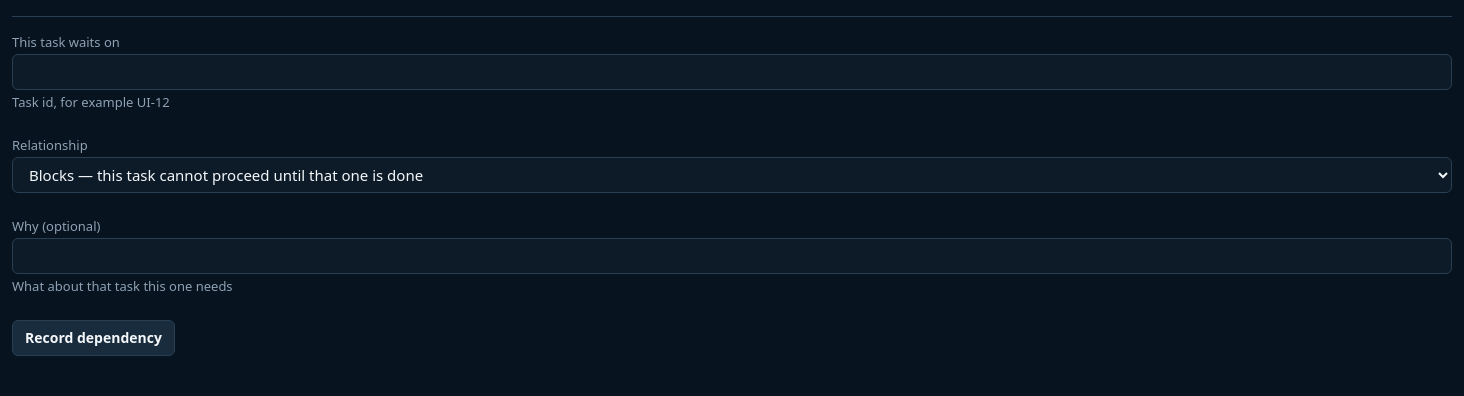
Test: DependencyForm › refuses a self-dependency
This screenshot has width=1464, height=396.
Type "UI-1" into the field labelled "This task waits on" at (732, 72), box [12,54,1452,90]
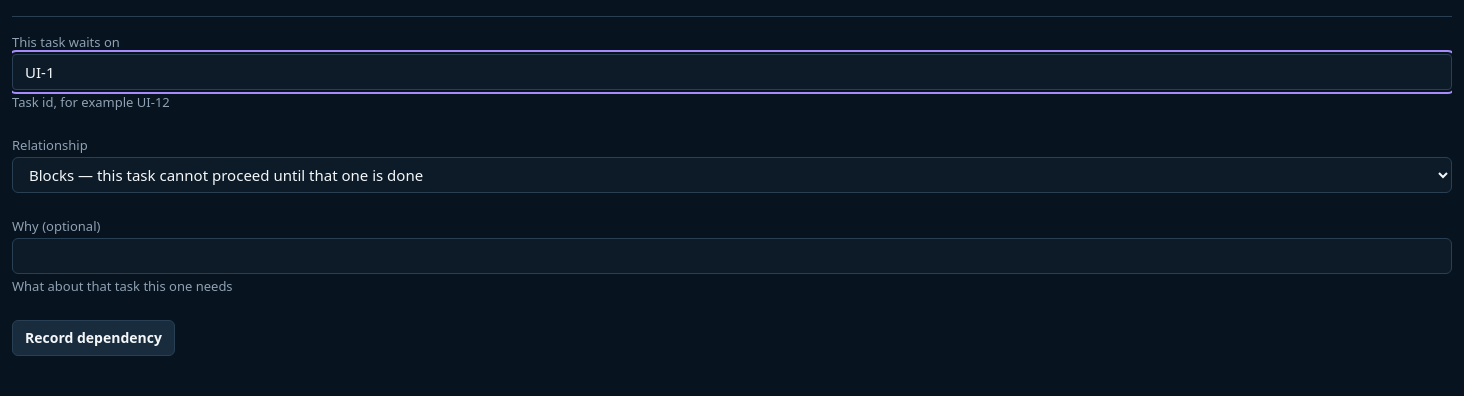
Click the button "Record dependency" at (93, 338), box [12,320,175,356]
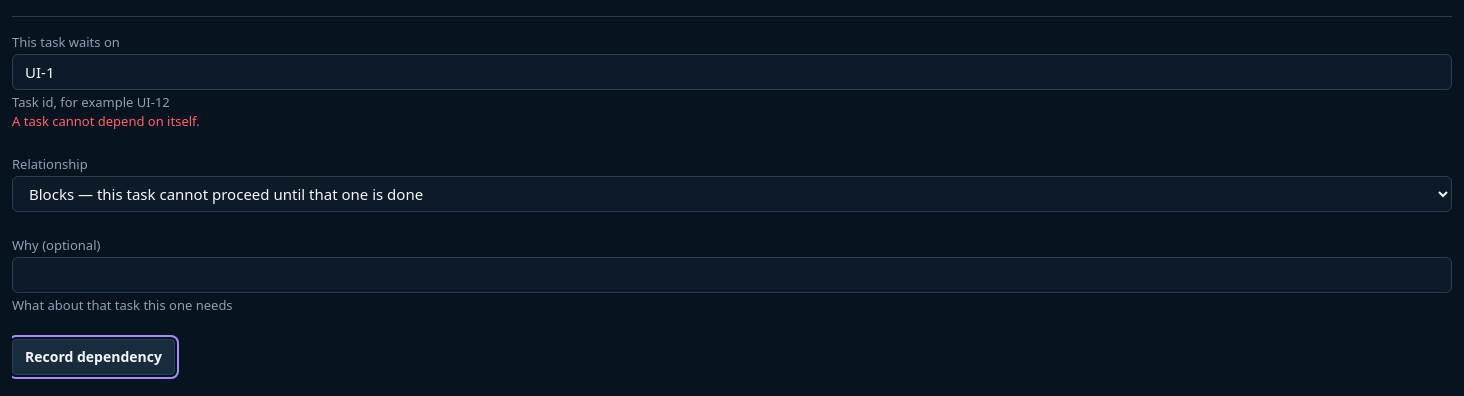
Expected: the message shows "cannot depend on itself", [12,112,200,130]
